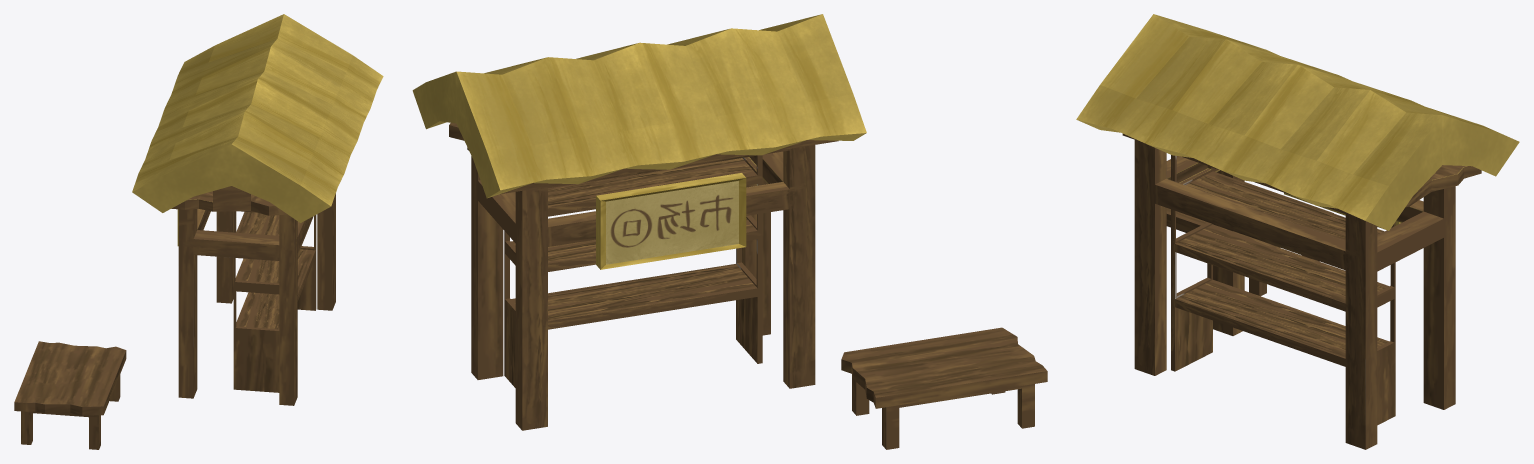
The model's file is MercadoUnidad.fbx.
3 renders of one model, left to right at view 1: azimuth 30°, elevation 25°; view 2: azimuth 150°, elevation 25°; view 3: azimuth 270°, elevation 25°, orthographic. The views are drawn at different scales.
Visible parts, largest first — view 1: Mercado_004__2_; view 2: Mercado_004__2_; view 3: Mercado_004__2_.
Boxes of the visible parts, box(x1,y1,x2,y2) form: Mercado_004__2_: box(14, 14, 383, 449); Mercado_004__2_: box(412, 14, 1047, 449); Mercado_004__2_: box(1076, 14, 1519, 449).
Bounding box in the file's own units: 1371 × 804 × 1001.
